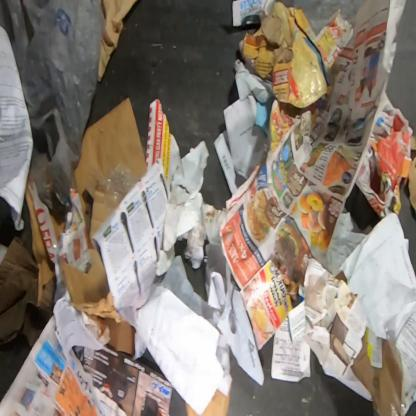cardboard: (237, 1, 354, 109), (79, 344, 175, 415), (0, 235, 56, 350), (350, 326, 405, 415), (25, 186, 56, 305), (60, 248, 110, 304), (85, 312, 136, 355), (89, 190, 109, 238), (407, 155, 415, 216)
soft_plastic: (0, 0, 105, 225), (97, 160, 142, 215)
